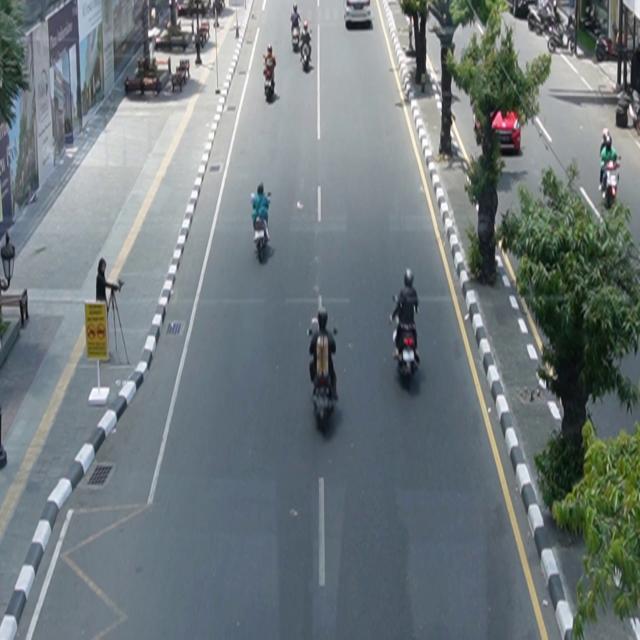car: (474, 106, 522, 155), (344, 1, 373, 28)
